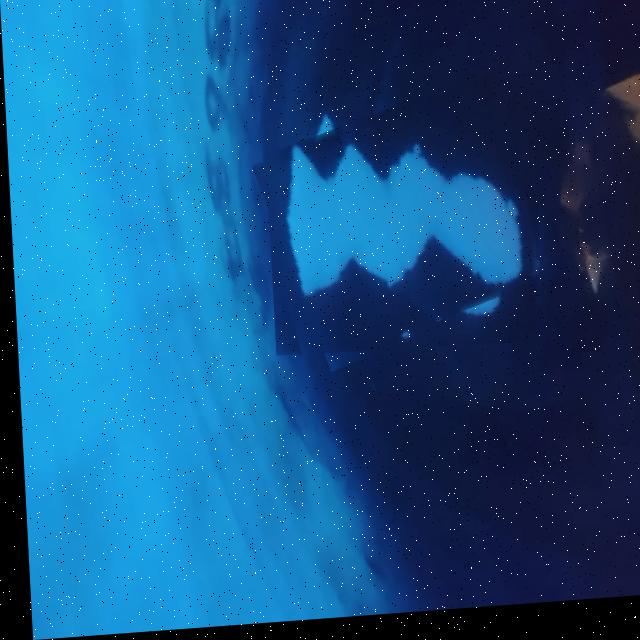thermocoal: (262, 92, 553, 364)
